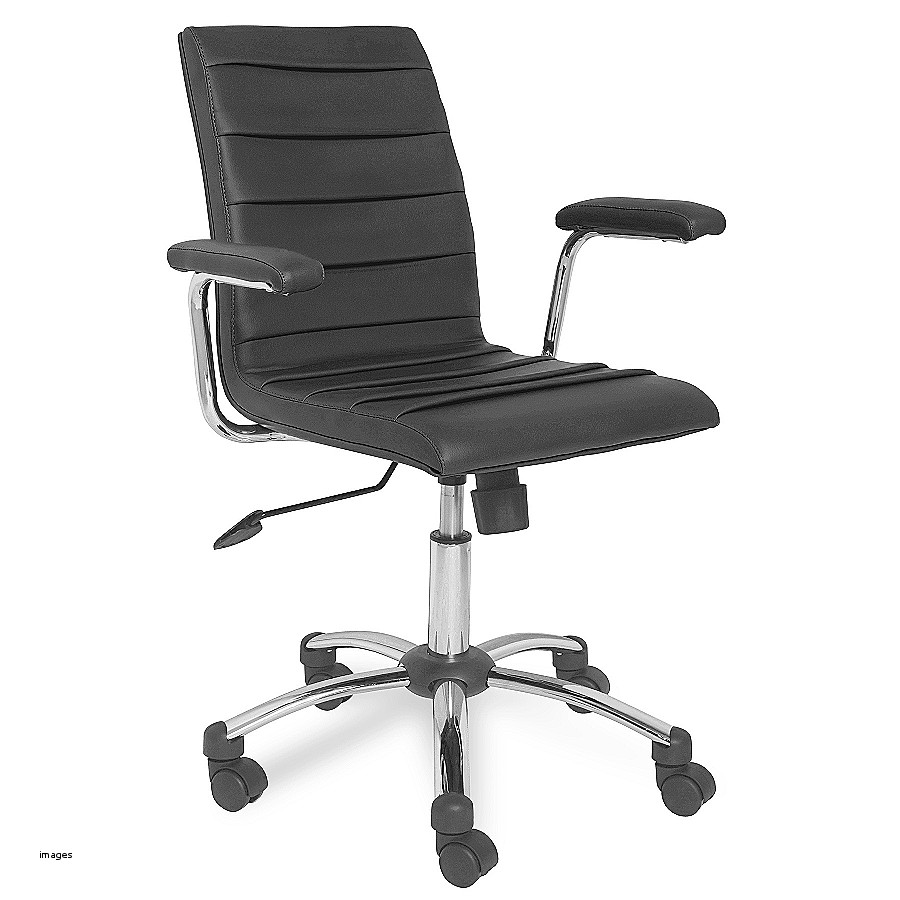chairs: (149, 10, 731, 881)
